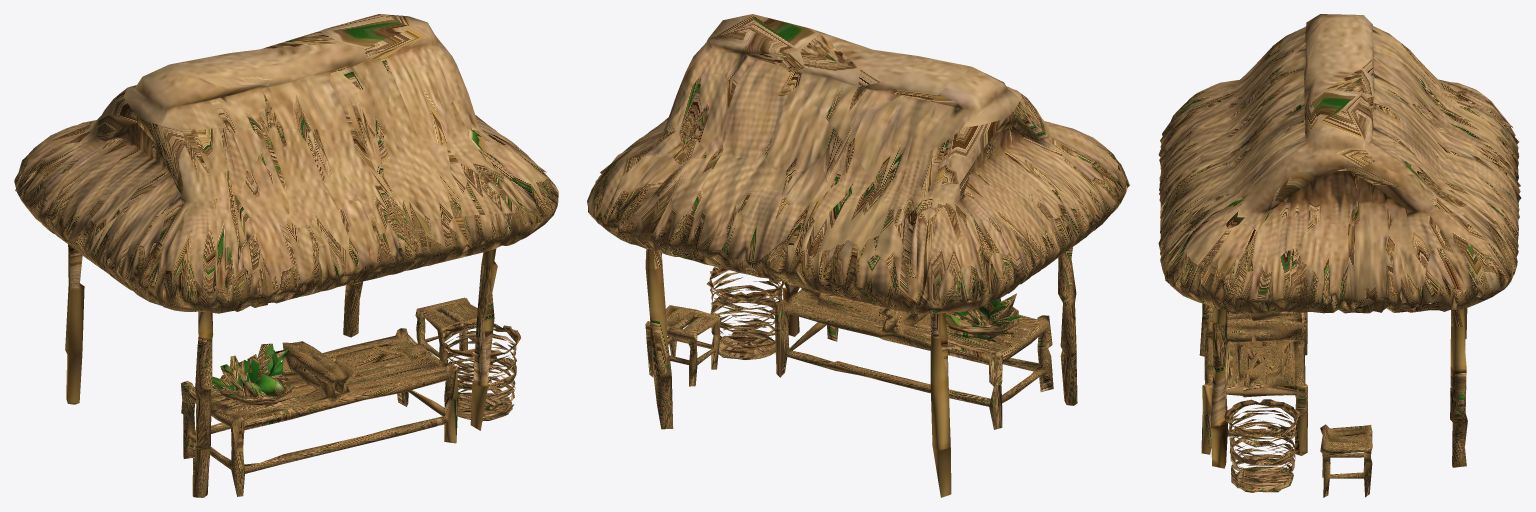
Rendered from leu-cho.bbe968fa.glb.
3 views of the same model, side by side, from view 1: azimuth 30°, elevation 25°; view 2: azimuth 150°, elevation 25°; view 3: azimuth 270°, elevation 25° (orthographic). The views are drawn at different scales.
Visible parts, largest first — view 1: tripo_node_6bdf2dc5-c430-413f-9ed0-924771cb0d86; view 2: tripo_node_6bdf2dc5-c430-413f-9ed0-924771cb0d86; view 3: tripo_node_6bdf2dc5-c430-413f-9ed0-924771cb0d86.
Part boxes in pixels (<box>): tripo_node_6bdf2dc5-c430-413f-9ed0-924771cb0d86: <box>14,14,558,497</box>; tripo_node_6bdf2dc5-c430-413f-9ed0-924771cb0d86: <box>587,14,1129,497</box>; tripo_node_6bdf2dc5-c430-413f-9ed0-924771cb0d86: <box>1158,14,1521,497</box>.
Bounding box in the file's own units: 0.9759 × 0.8239 × 0.779.
Materials: 1 (1 with a texture image).
